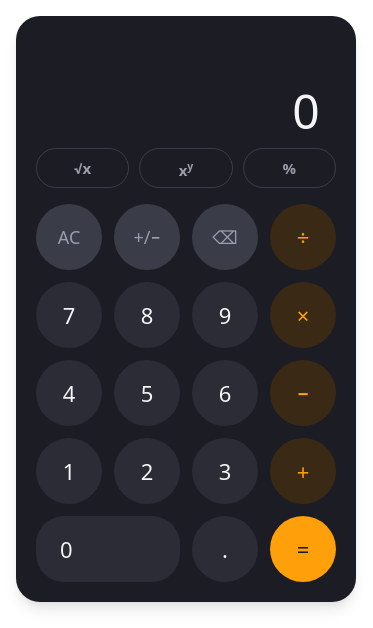
Test: Calculator › shows an error message returned by the API instead of a result
Click the button "1" at [69, 471], box [36,438,102,504]
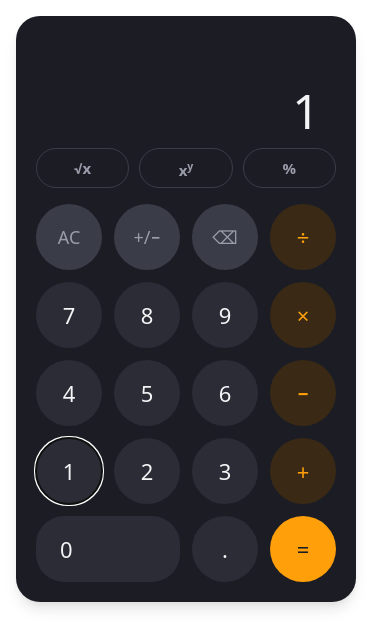
Click the button "÷" at [303, 237], box [270,204,336,270]
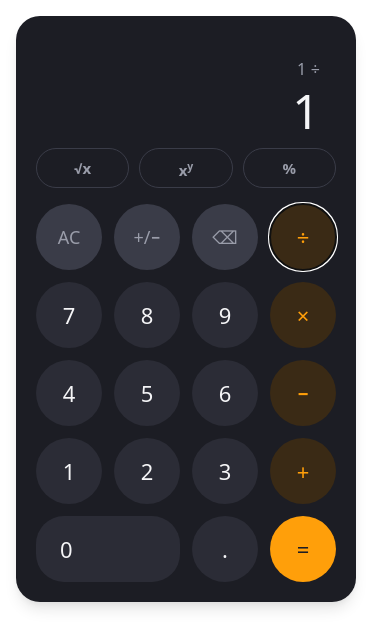
Click the button "0" at [108, 549], box [36,516,180,582]
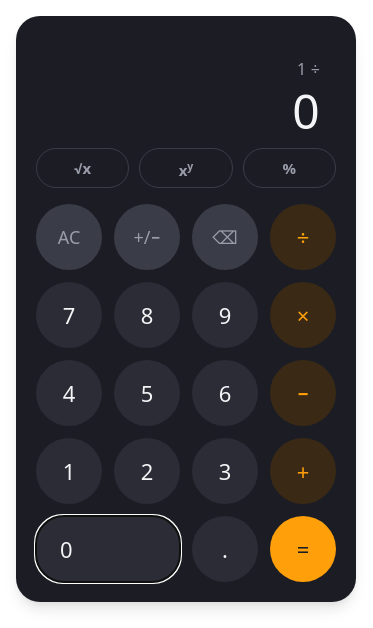
Click the button "=" at [303, 549], box [270,516,336,582]
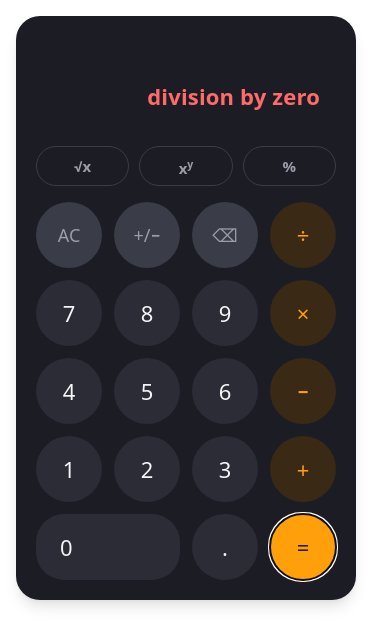
Now the message reads "division by zero", box [147,81,320,111]
